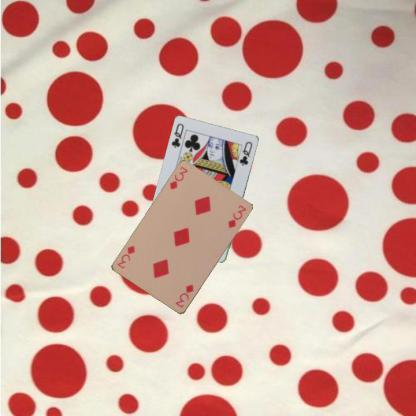3d: (173, 281, 195, 309), (167, 164, 189, 192)
Qc: (169, 121, 185, 150)
